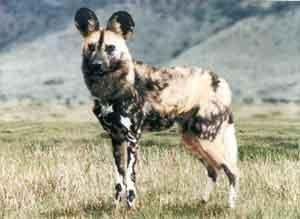African_hunting_dog: (75, 6, 239, 210)
